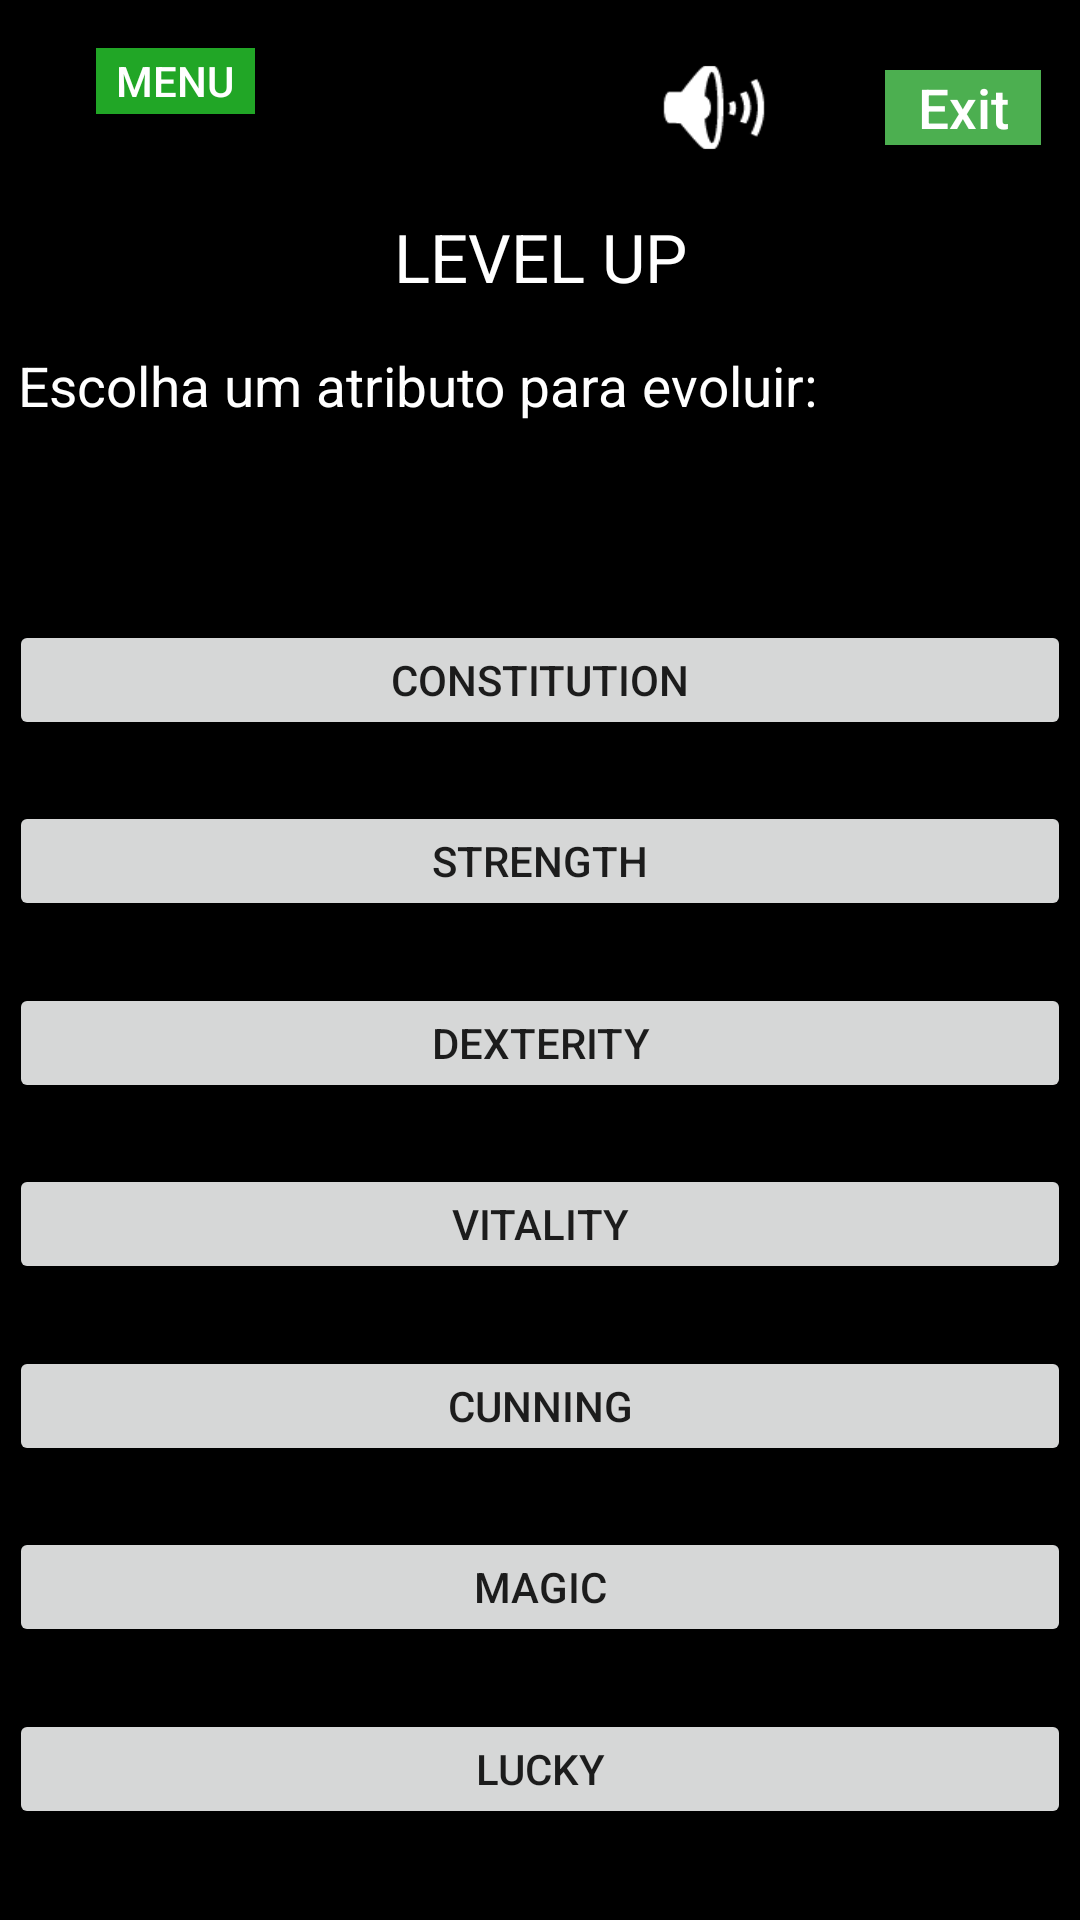

Screen size 1080px x 1920px. Icon name, then its box in pixels as [left=x1, top=y1, right=x2, bottom=y2]:
lock silent mode off: [left=663, top=66, right=765, bottom=149]
